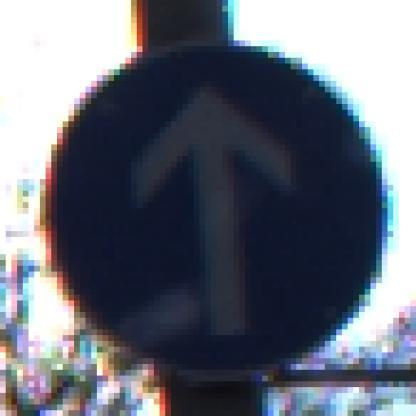straight: (34, 34, 393, 382)
